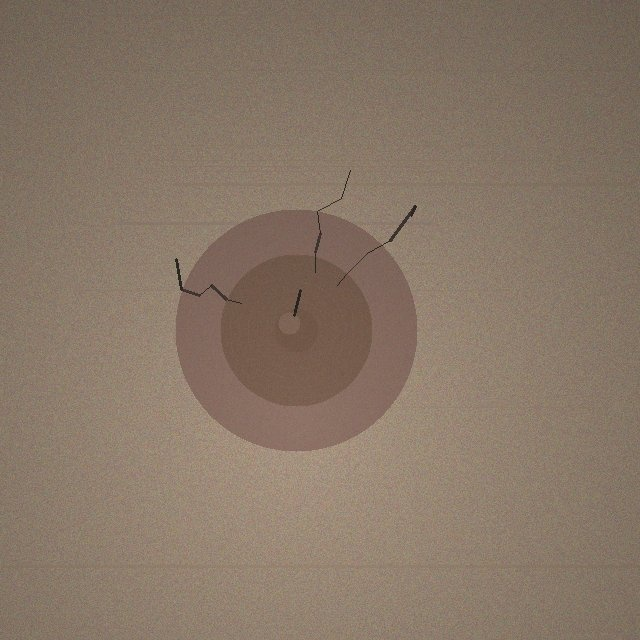crack: (175, 209, 417, 451)
